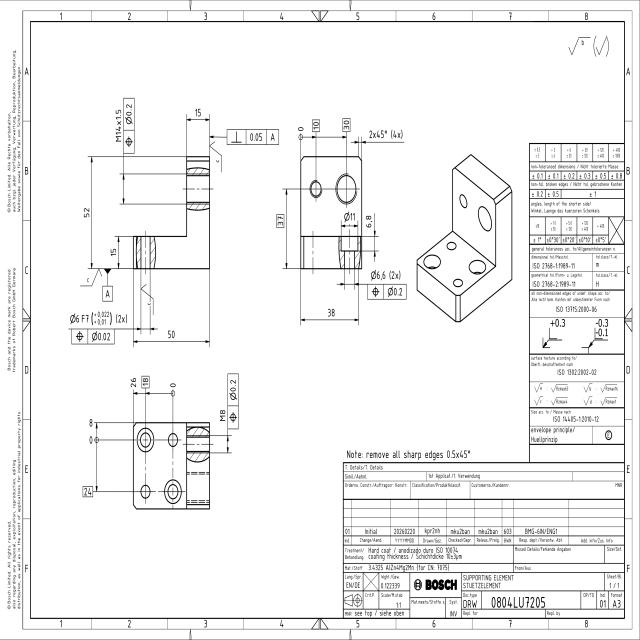dimension: (68, 310, 128, 326), (369, 268, 402, 282), (368, 128, 404, 140), (115, 108, 122, 143), (344, 210, 356, 223), (82, 485, 94, 498), (140, 375, 150, 389), (342, 118, 351, 133), (312, 118, 321, 133), (364, 214, 373, 229), (276, 213, 284, 229), (167, 328, 176, 339), (219, 408, 226, 422), (82, 207, 90, 219), (130, 376, 137, 389), (327, 308, 336, 318), (194, 107, 202, 118), (88, 434, 94, 445), (296, 124, 304, 132), (110, 248, 116, 258), (88, 418, 93, 427), (170, 382, 177, 388)
